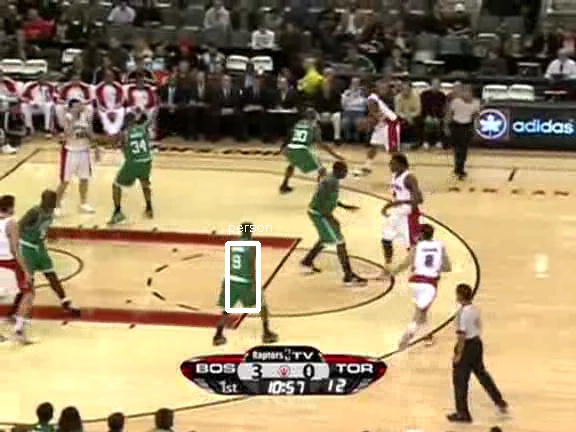person: (226, 232, 260, 313), (225, 232, 259, 313), (227, 232, 261, 313), (226, 231, 260, 312), (226, 233, 260, 314)
target_negative: (322, 180, 401, 299), (61, 409, 438, 425), (551, 320, 574, 427), (539, 380, 558, 425), (487, 172, 512, 206), (514, 355, 556, 364)
